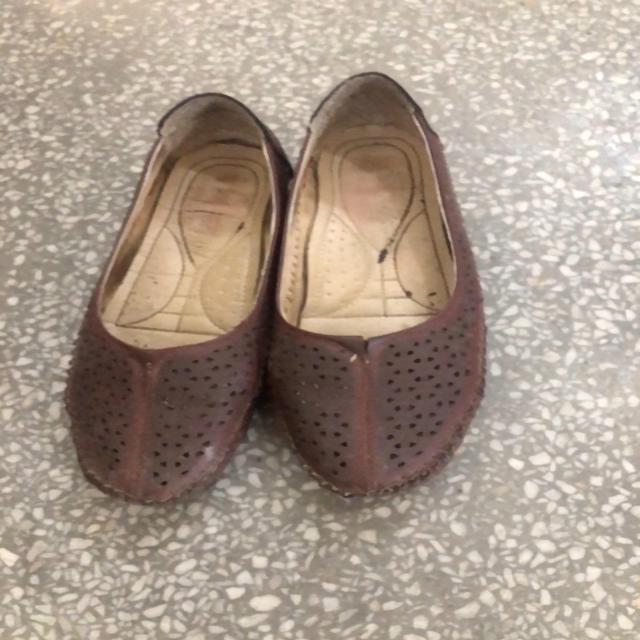shoe: (55, 94, 286, 504), (280, 64, 491, 494)
